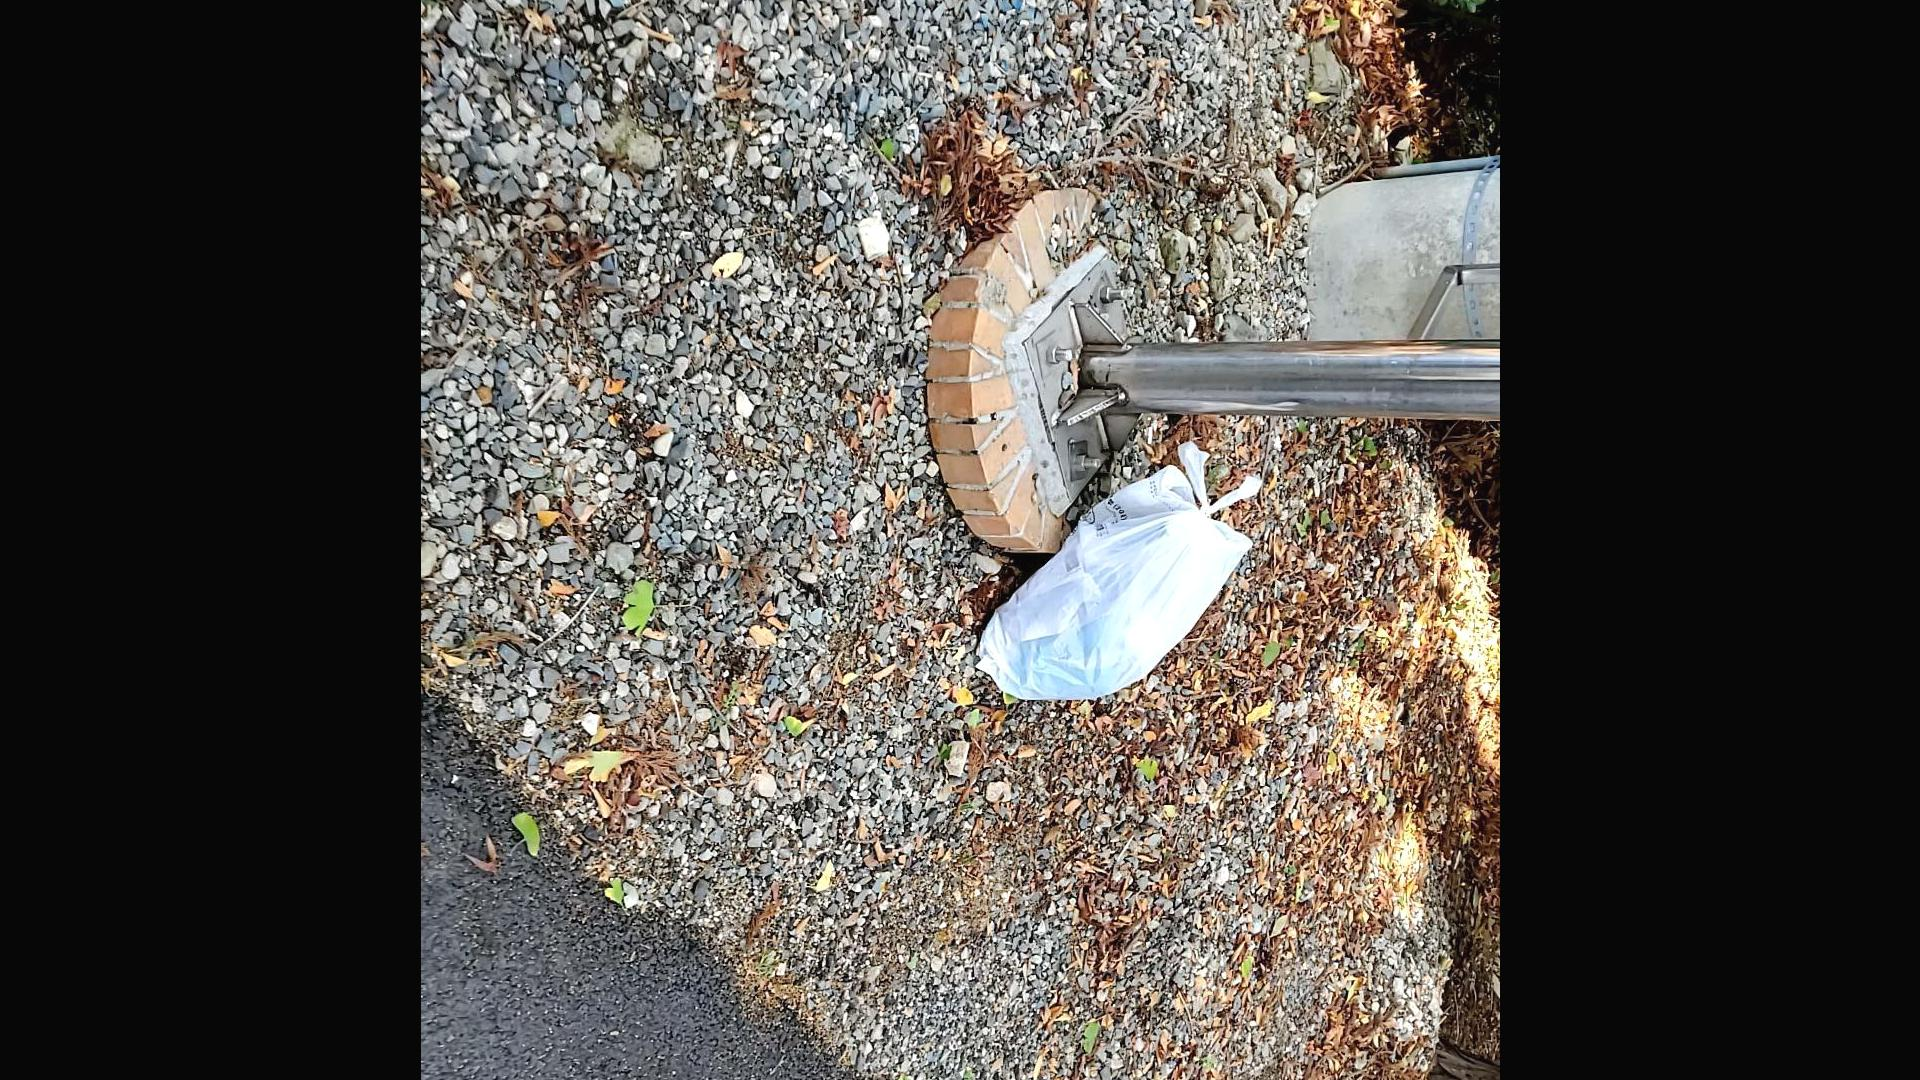white_bag: (971, 426, 1280, 723)
